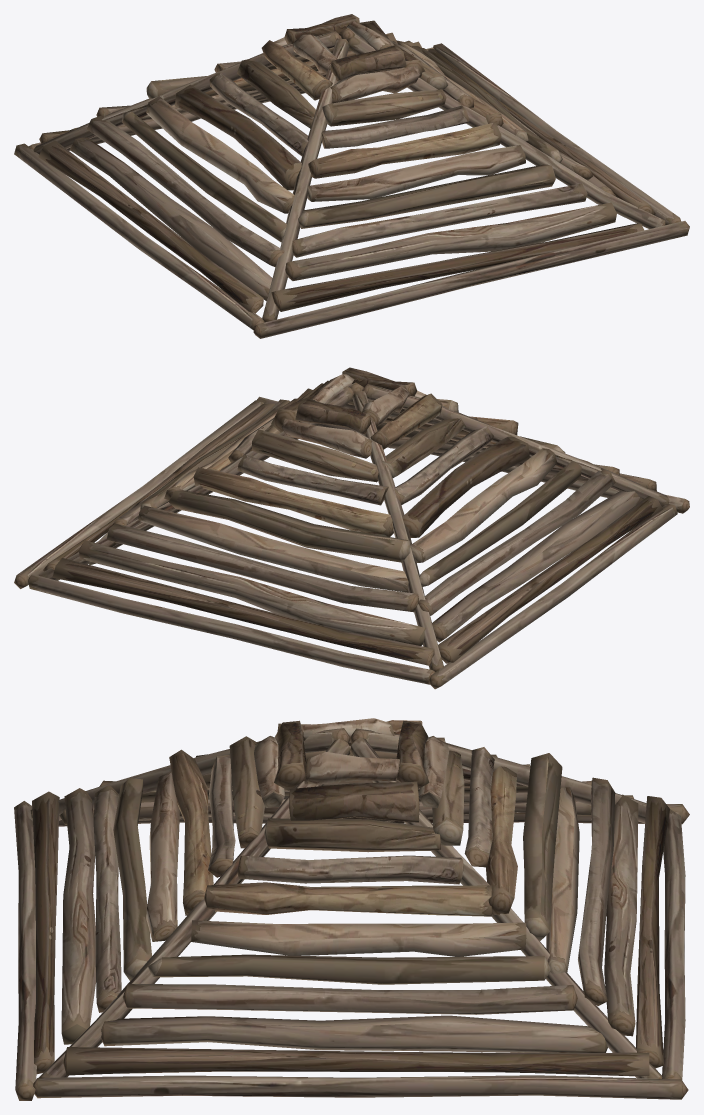
File: wood-roof.glb
3 renders of one model, top to bottom at view 1: azimuth 30°, elevation 25°; view 2: azimuth 150°, elevation 25°; view 3: azimuth 270°, elevation 25°, orthographic. The views are drawn at different scales.
Parts seen in each view (by area): view 1: PBW_W1_RoofC.dmx-static; view 2: PBW_W1_RoofC.dmx-static; view 3: PBW_W1_RoofC.dmx-static.
Boxes of the visible parts, x1,y1,x2,y2 form: PBW_W1_RoofC.dmx-static: [14, 14, 689, 338]; PBW_W1_RoofC.dmx-static: [14, 367, 689, 689]; PBW_W1_RoofC.dmx-static: [14, 718, 689, 1100].
Size of the model in its own units: 5.45 by 2 by 5.42.
1 material, 1 textured.
